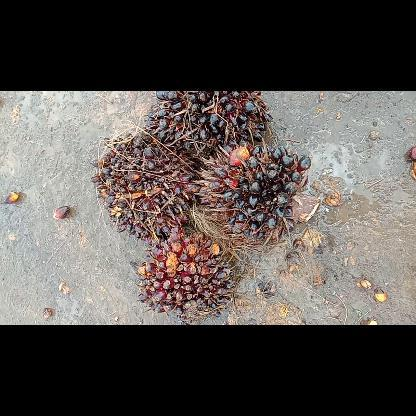TBS abnormal: (194, 142, 322, 248), (142, 91, 274, 165)
TBS masak: (88, 130, 212, 246), (130, 223, 242, 324)
